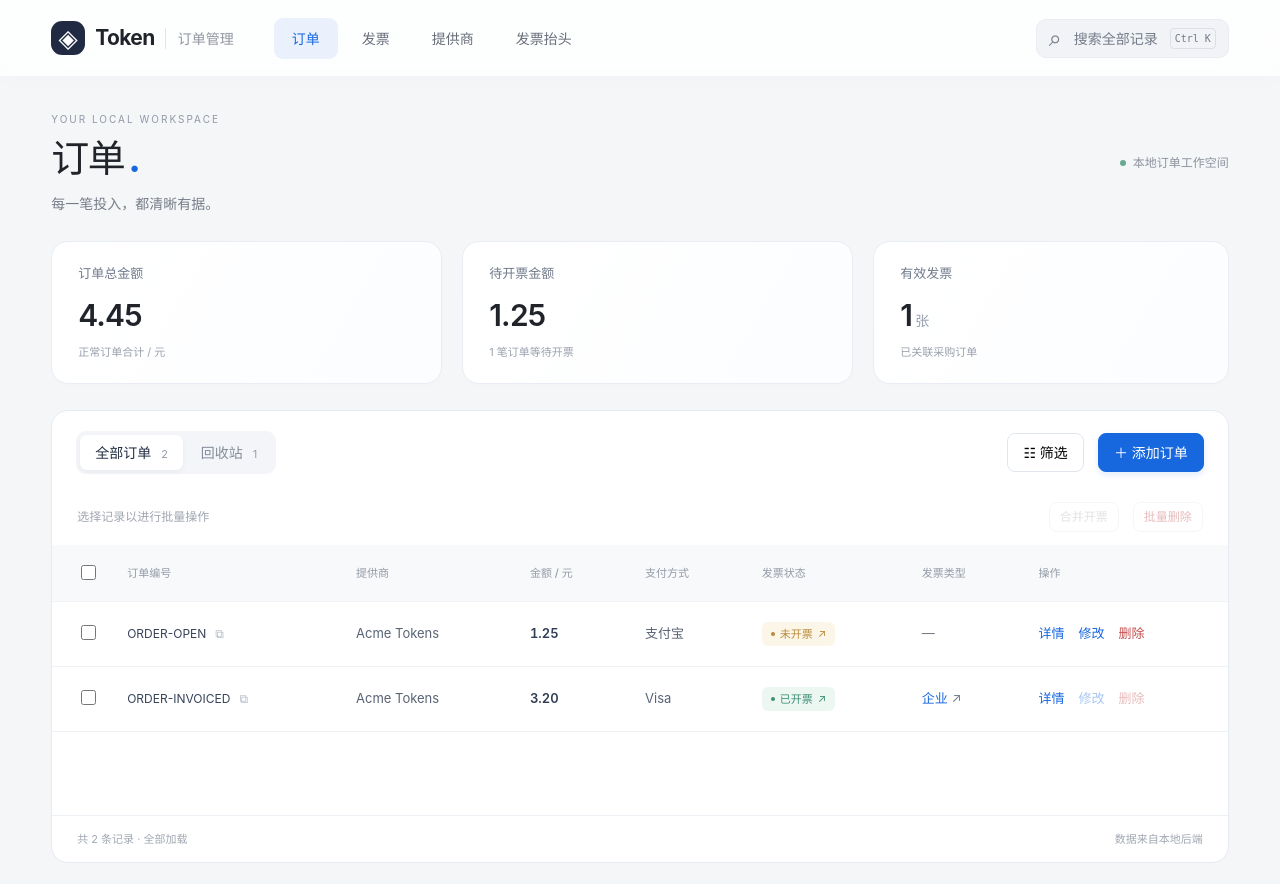
Test: 正式前端用户交互 › 选中已开票订单禁止合并开票和批量删除
expect the button "ORDER-OPEN⧉" is shown: met, box [127,625,224,643]
Click the checkbox named "选择 ORDER-OPEN" at (89, 633), box [81,625,96,640]
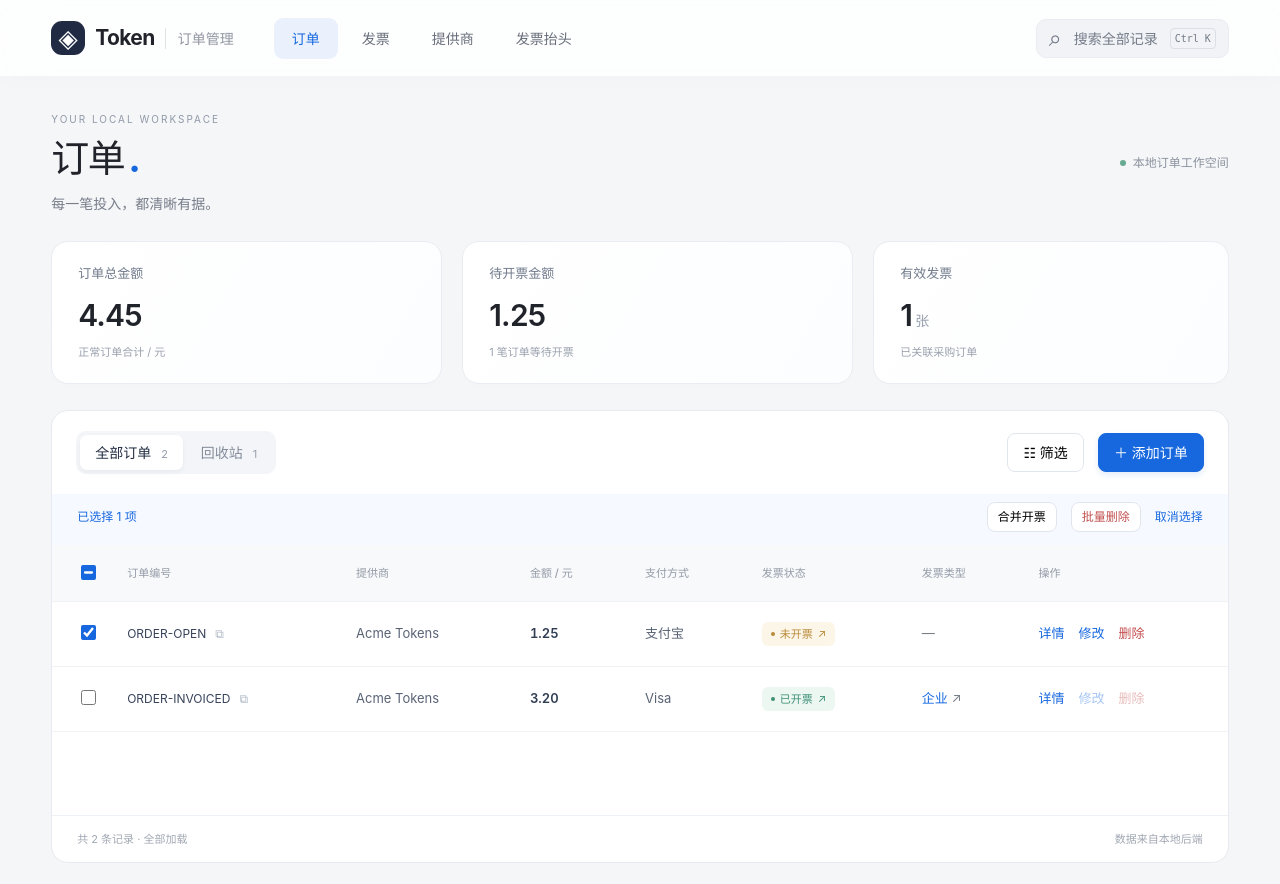
expect the button "合并开票" is enabled: met, box [987,502,1057,532]
Click the checkbox named "选择 ORDER-INVOICED" at (89, 698), box [81,690,96,705]
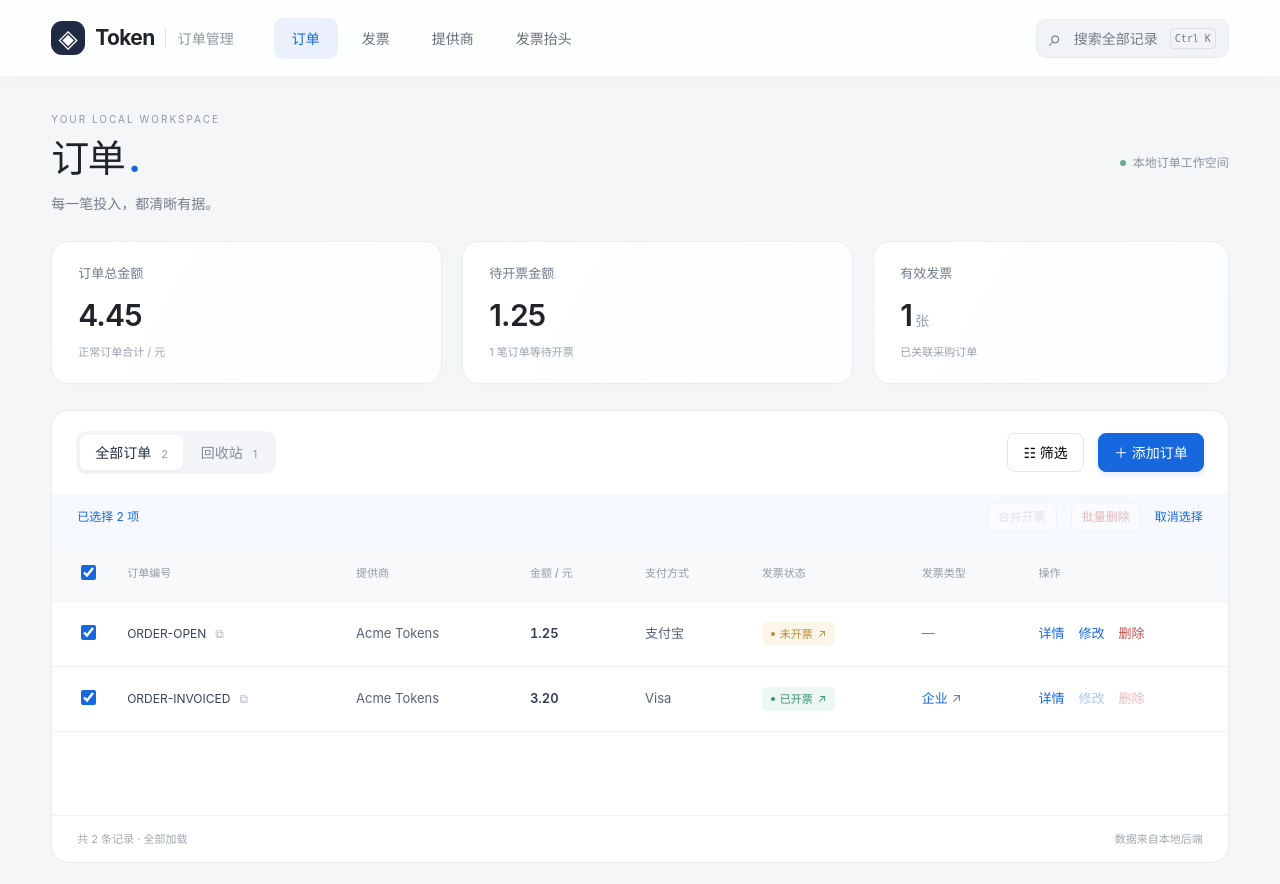
expect the button "合并开票" is disabled: met, box [987,502,1057,532]
expect the button "批量删除" is disabled: met, box [1071,502,1141,532]
